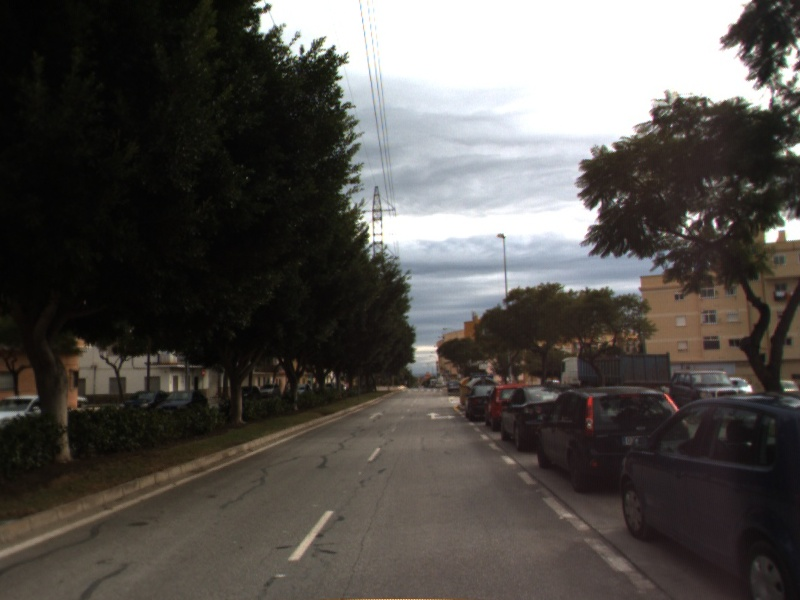STRAIGHT: (366, 409, 386, 421)
STRAIGHT_RIGHT: (424, 410, 459, 422)
